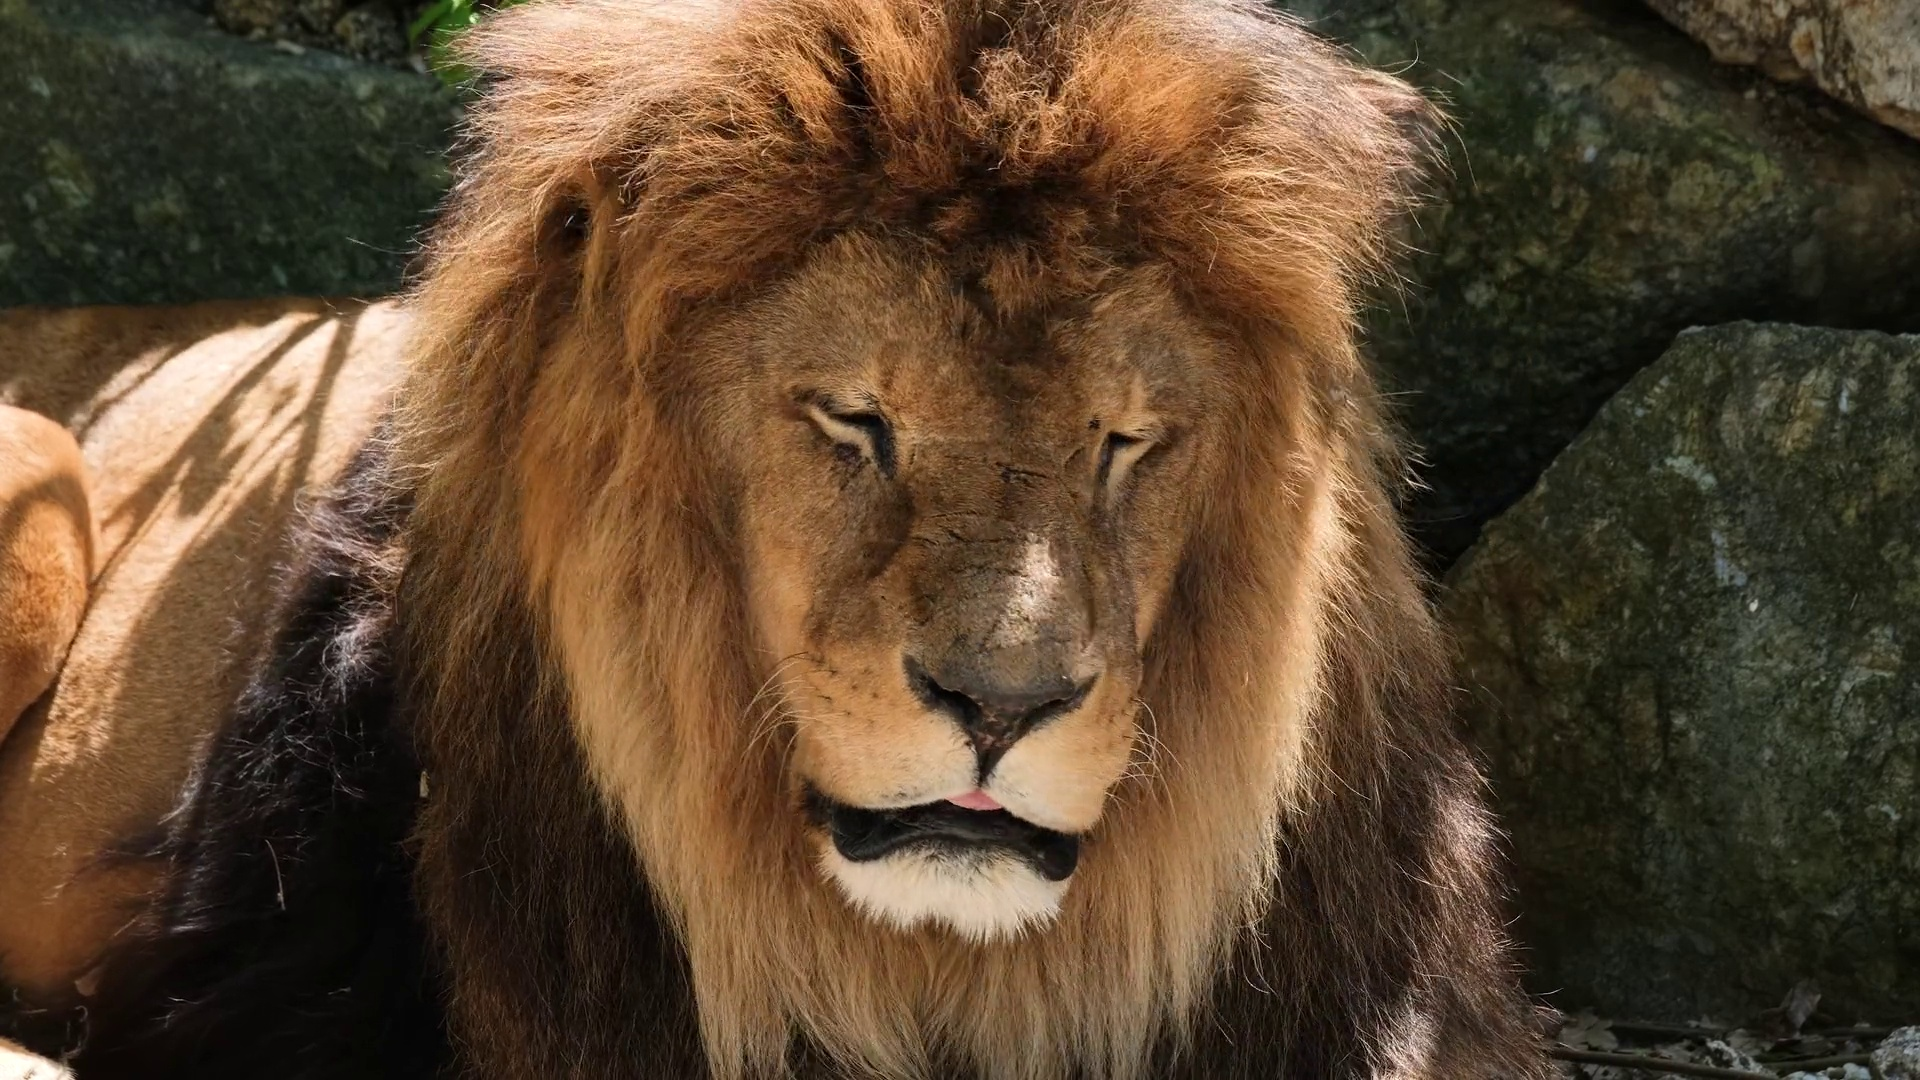Lion: (7, 3, 1549, 1080)
